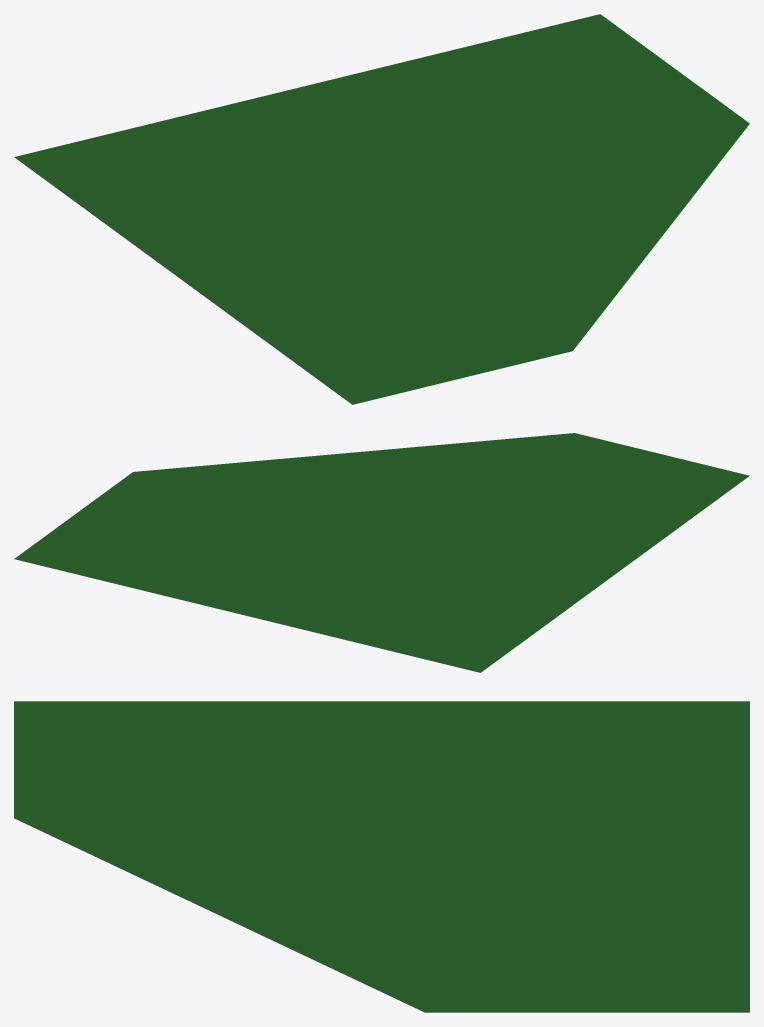
Rendered from Ground_002.FBX.
The picture shows the model from 3 angles, top to bottom: view 1: azimuth 30°, elevation 25°; view 2: azimuth 150°, elevation 25°; view 3: azimuth 270°, elevation 25°; orthographic projection. The views are drawn at different scales.
Visible parts, largest first — view 1: Ground_002; view 2: Ground_002; view 3: Ground_002.
Part boxes in pixels (<box>): Ground_002: <box>14,14,749,404</box>; Ground_002: <box>14,433,749,672</box>; Ground_002: <box>14,701,749,1012</box>.
Size of the model in its own units: 78.74 by 1.03e-05 by 78.74.
